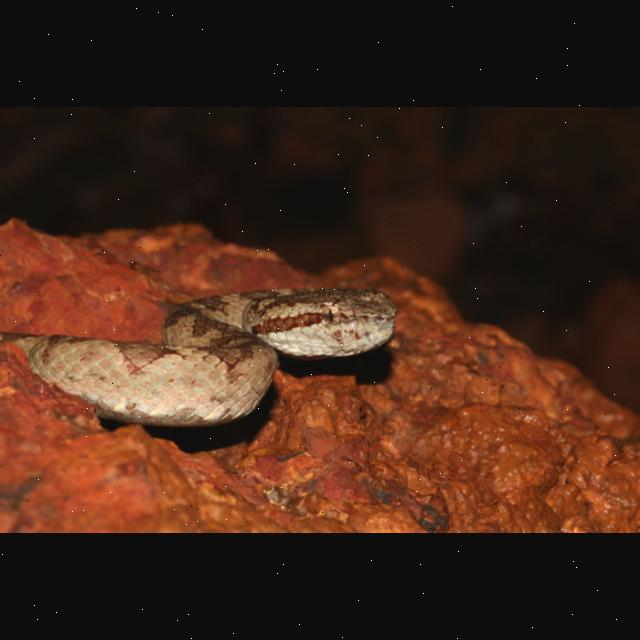snake: (0, 276, 404, 429)
